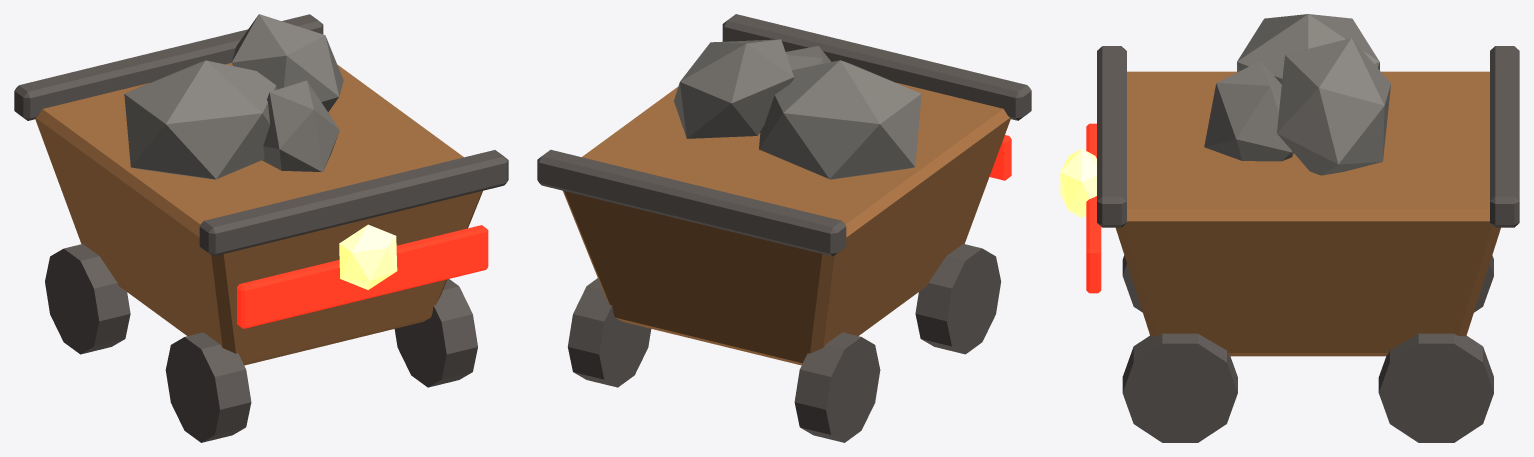
The model's file is oncoming_cart.glb.
The picture shows the model from 3 angles, left to right: view 1: azimuth 30°, elevation 25°; view 2: azimuth 150°, elevation 25°; view 3: azimuth 270°, elevation 25°; orthographic projection. The views are drawn at different scales.
Visible parts, largest first — view 1: GEO_copper, GEO_stone, GEO_iron, GEO_hazard, ANIM_wheel_FL, ANIM_wheel_RL, ANIM_wheel_FR, ANIM_headlamp; view 2: GEO_copper, GEO_stone, GEO_iron, ANIM_wheel_RL, ANIM_wheel_FL, ANIM_wheel_RR, GEO_hazard; view 3: GEO_copper, GEO_stone, GEO_iron, ANIM_wheel_RR, ANIM_wheel_FR, ANIM_headlamp, GEO_hazard.
Boxes of the visible parts, x1=… form: GEO_copper: x1=35, y1=63, x2=482, y2=365; GEO_stone: x1=124, y1=14, x2=343, y2=179; GEO_iron: x1=14, y1=14, x2=508, y2=256; GEO_hazard: x1=237, y1=225, x2=488, y2=328; ANIM_wheel_FL: x1=165, y1=332, x2=251, y2=442; ANIM_wheel_RL: x1=45, y1=244, x2=130, y2=354; ANIM_wheel_FR: x1=394, y1=279, x2=477, y2=387; ANIM_headlamp: x1=339, y1=224, x2=397, y2=289; GEO_copper: x1=563, y1=82, x2=1010, y2=365; GEO_stone: x1=674, y1=39, x2=921, y2=179; GEO_iron: x1=537, y1=14, x2=1031, y2=256; ANIM_wheel_RL: x1=794, y1=332, x2=880, y2=442; ANIM_wheel_FL: x1=915, y1=244, x2=1001, y2=354; ANIM_wheel_RR: x1=567, y1=278, x2=651, y2=387; GEO_hazard: x1=989, y1=135, x2=1011, y2=180; GEO_copper: x1=1116, y1=71, x2=1500, y2=356; GEO_stone: x1=1204, y1=14, x2=1390, y2=175; GEO_iron: x1=1097, y1=46, x2=1519, y2=227; ANIM_wheel_RR: x1=1378, y1=333, x2=1493, y2=442; ANIM_wheel_FR: x1=1122, y1=333, x2=1237, y2=442; ANIM_headlamp: x1=1060, y1=148, x2=1096, y2=217; GEO_hazard: x1=1086, y1=123, x2=1101, y2=293.
Bounding box in the file's own units: 1.72 × 1.8 × 2.15.
